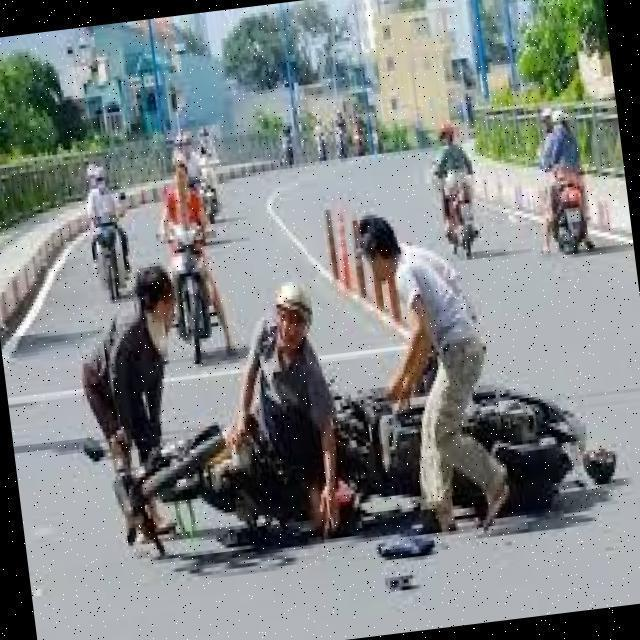accident: (47, 179, 626, 597)
